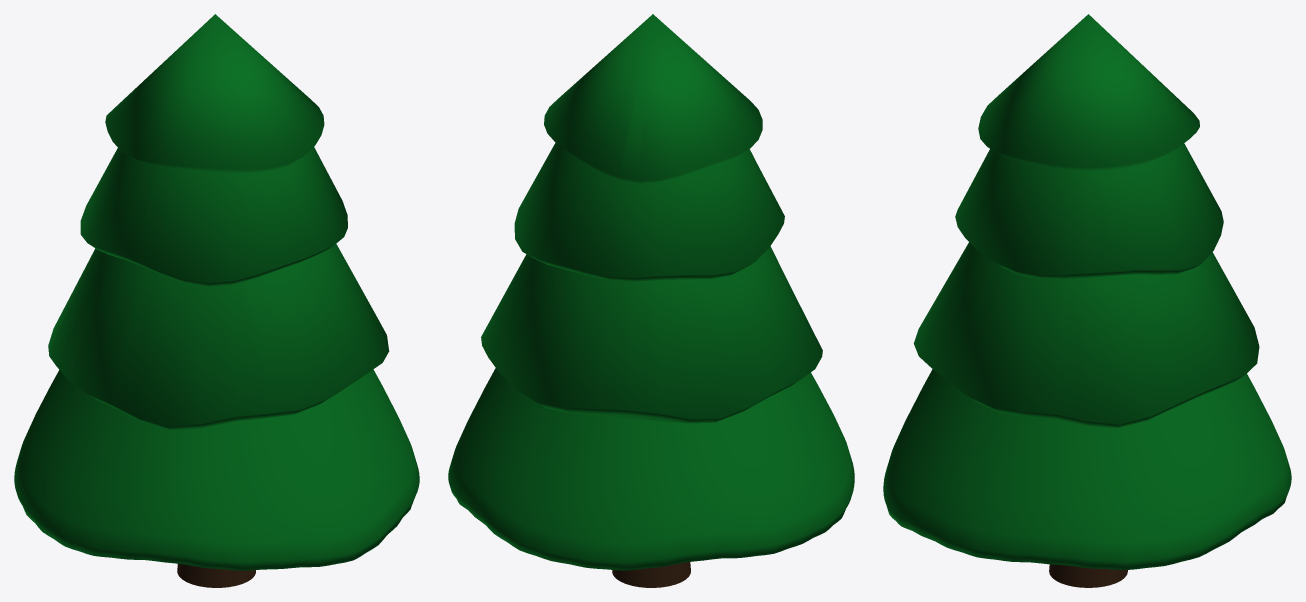
File: Tree_Cartoon2.fbx
3 renders of one model, left to right at view 1: azimuth 30°, elevation 25°; view 2: azimuth 150°, elevation 25°; view 3: azimuth 270°, elevation 25°, orthographic.
Parts seen in each view (by area): view 1: Cylinder.001, Cylinder.002, Cylinder.003, Cylinder.004, Cylinder.000; view 2: Cylinder.001, Cylinder.002, Cylinder.003, Cylinder.004, Cylinder.000; view 3: Cylinder.001, Cylinder.002, Cylinder.003, Cylinder.004, Cylinder.000.
Part boxes in pixels (x1,y1,x2,y2): Cylinder.001: [14, 369, 419, 570]; Cylinder.002: [48, 244, 389, 430]; Cylinder.003: [80, 147, 347, 286]; Cylinder.004: [105, 14, 324, 172]; Cylinder.000: [177, 563, 255, 587]; Cylinder.001: [448, 368, 854, 570]; Cylinder.002: [481, 246, 822, 423]; Cylinder.003: [514, 142, 784, 281]; Cylinder.004: [544, 14, 762, 184]; Cylinder.000: [612, 562, 690, 587]; Cylinder.001: [883, 369, 1291, 569]; Cylinder.002: [913, 242, 1259, 427]; Cylinder.003: [955, 143, 1223, 278]; Cylinder.004: [978, 14, 1199, 170]; Cylinder.000: [1049, 564, 1127, 587].
Bounding box in the file's own units: 331 × 502 × 334.
